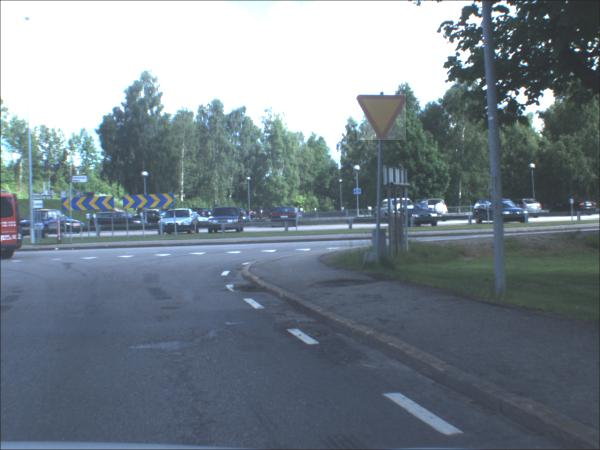GIVE_WAY: (358, 95, 408, 142)
